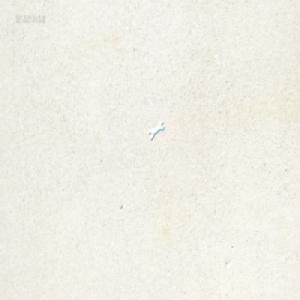Wrench: (148, 121, 164, 139)
